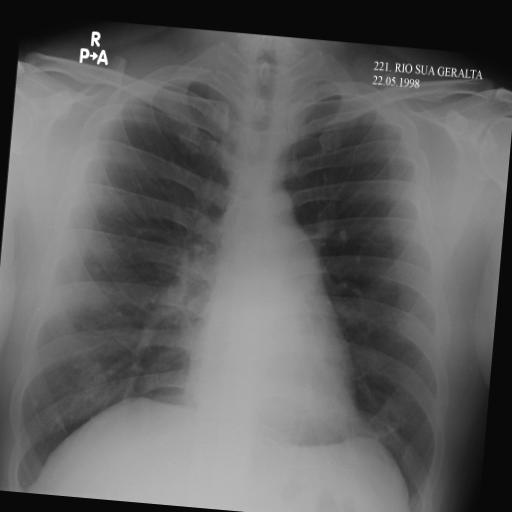normal: (0, 27, 482, 512)
